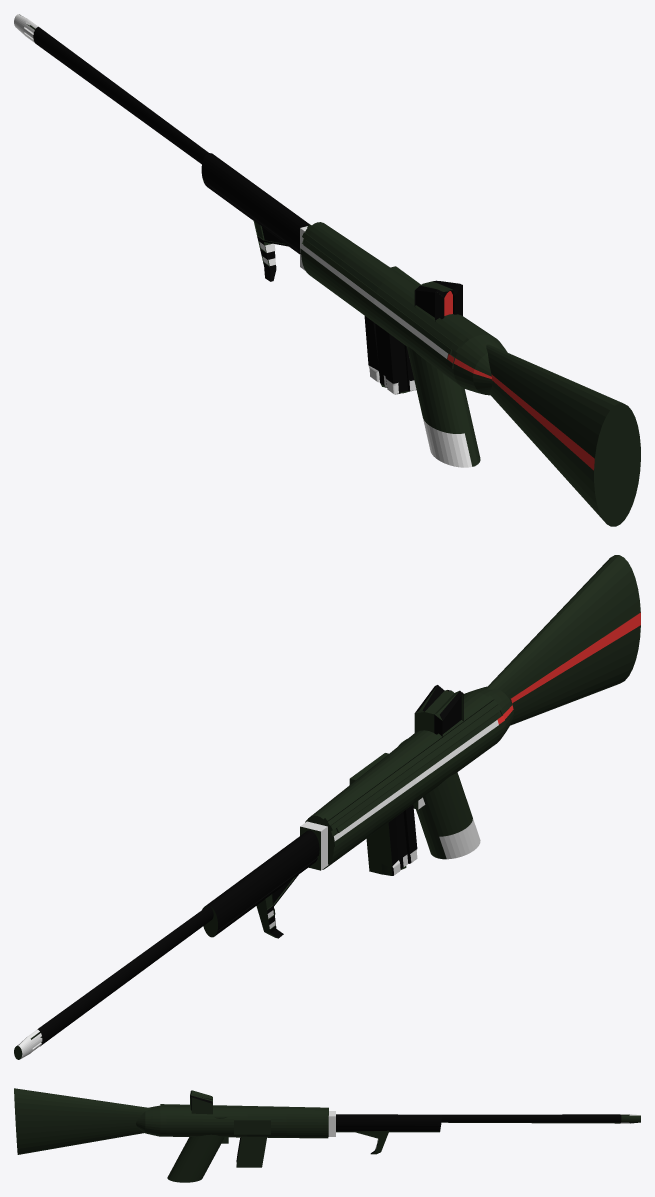
File: Karabin V2.fbx
3 views of the same model, one above another, from view 1: azimuth 30°, elevation 25°; view 2: azimuth 150°, elevation 25°; view 3: azimuth 270°, elevation 25° (orthographic). The views are drawn at different scales.
Visible parts, largest first — view 1: Prostokąt; view 2: Prostokąt; view 3: Prostokąt.
Boxes of the visible parts, x1,y1,x2,y2 form: Prostokąt: (14,14,640,526); Prostokąt: (14,555,640,1059); Prostokąt: (14,1088,640,1182).
Bounding box in the file's own units: 30.12 × 94.12 × 597.
